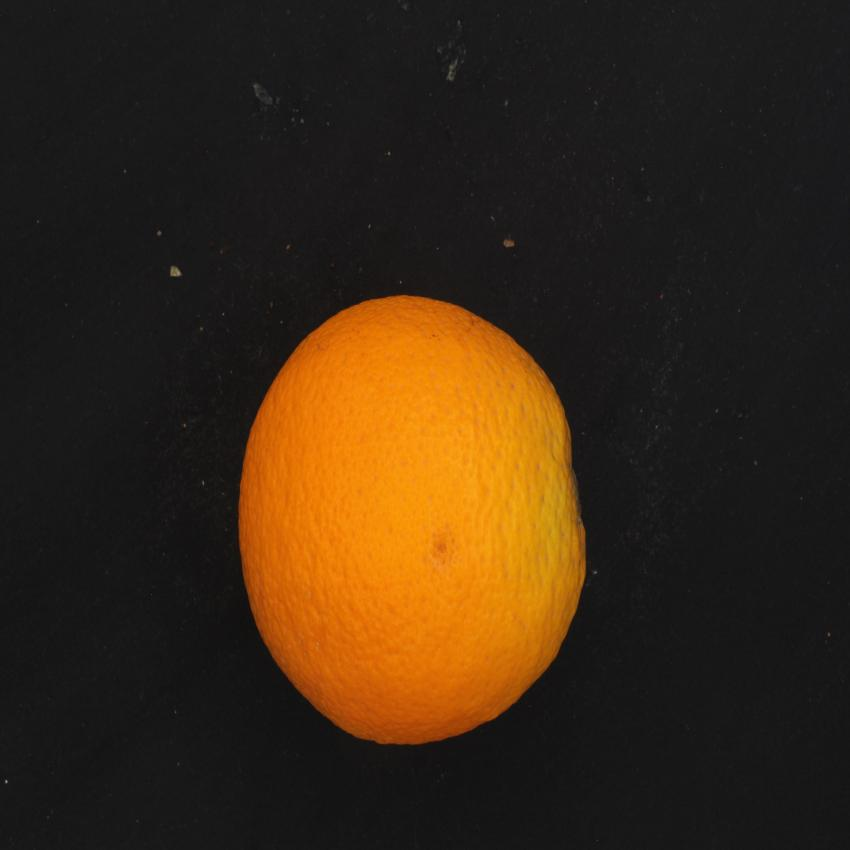Buen estado: (228, 279, 608, 759)
